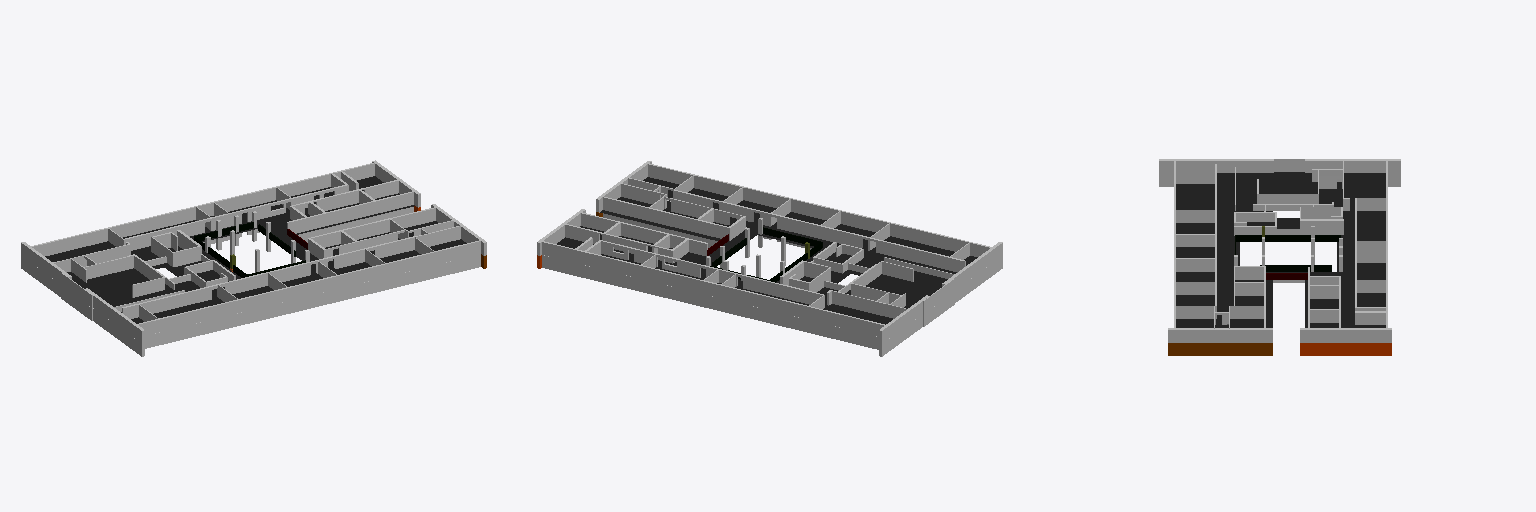
File: geral.obj
3 renders of one model, left to right at view 1: azimuth 30°, elevation 25°; view 2: azimuth 150°, elevation 25°; view 3: azimuth 270°, elevation 25°, orthographic.
Visible parts, largest first — view 1: Cube, Cubo.064_Cubo.075, Cubo.005, Cubo.065_Cubo.076, Cubo.028_Cubo.053, Cubo.051_Cubo.062, Cubo.061_Cubo.072, Cubo.062_Cubo.073, Cubo.048_Cubo.052, Cubo.063_Cubo.074, Cubo.066_Cubo.077, Cubo.036_Cubo.050 (+9 smaller); view 2: Cube, Cubo.065_Cubo.076, Cubo.004, Cubo.064_Cubo.075, Cubo.028_Cubo.053, Cubo.051_Cubo.062, Cubo.062_Cubo.073, Cubo.061_Cubo.072, Cubo.048_Cubo.052, Cubo.032_Cubo.058, Cubo.063_Cubo.074, Cubo.036_Cubo.050 (+7 smaller); view 3: Cube, Cubo.069_Cubo.080, Cubo.066_Cubo.077, Cubo.068_Cubo.079, Cubo, Cubo.001, Cubo.067_Cubo.078, Cubo.048_Cubo.052, Cubo.049_Cubo.055, BARRA03_Plano, Cubo.030_Cubo.061, Cubo.024_Cubo.035.
Boxes of the visible parts, box(x1,y1,x2,y2) form: Cube: box(45, 176, 466, 323); Cubo.064_Cubo.075: box(138, 240, 480, 335); Cubo.005: box(145, 254, 480, 348); Cubo.065_Cubo.076: box(31, 163, 374, 255); Cubo.028_Cubo.053: box(122, 236, 414, 318); Cubo.051_Cubo.062: box(123, 184, 347, 250); Cubo.061_Cubo.072: box(287, 191, 413, 233); Cubo.062_Cubo.073: box(309, 207, 435, 247); Cubo.048_Cubo.052: box(151, 230, 201, 266); Cubo.063_Cubo.074: box(292, 180, 398, 214); Cubo.066_Cubo.077: box(85, 288, 144, 343); Cubo.036_Cubo.050: box(324, 219, 404, 261); Cube: box(557, 177, 977, 324); Cubo.065_Cubo.076: box(542, 241, 885, 336); Cubo.004: box(542, 255, 878, 349); Cubo.064_Cubo.075: box(648, 163, 991, 256); Cubo.028_Cubo.053: box(673, 190, 965, 272); Cubo.051_Cubo.062: box(601, 240, 824, 307); Cubo.062_Cubo.073: box(603, 197, 728, 238); Cubo.061_Cubo.072: box(581, 212, 707, 256); Cubo.048_Cubo.052: box(780, 260, 830, 292); Cubo.032_Cubo.058: box(827, 290, 906, 318); Cubo.063_Cubo.074: box(565, 224, 671, 262); Cubo.036_Cubo.050: box(649, 197, 745, 224); Cube: box(1176, 172, 1385, 327); Cubo.069_Cubo.080: box(1168, 328, 1272, 342); Cubo.066_Cubo.077: box(1159, 159, 1273, 173); Cubo.068_Cubo.079: box(1300, 328, 1391, 342); Cubo: box(1168, 343, 1272, 355); Cubo.001: box(1300, 343, 1391, 355); Cubo.067_Cubo.078: box(1305, 159, 1400, 173); Cubo.048_Cubo.052: box(1300, 207, 1343, 234); Cubo.049_Cubo.055: box(1234, 212, 1276, 235); BARRA03_Plano: box(1236, 235, 1338, 241); Cubo.030_Cubo.061: box(1257, 194, 1317, 203); Cubo.024_Cubo.035: box(1175, 258, 1214, 271).
Size of the model in its own units: 3.53 by 0.2748 by 2.11.